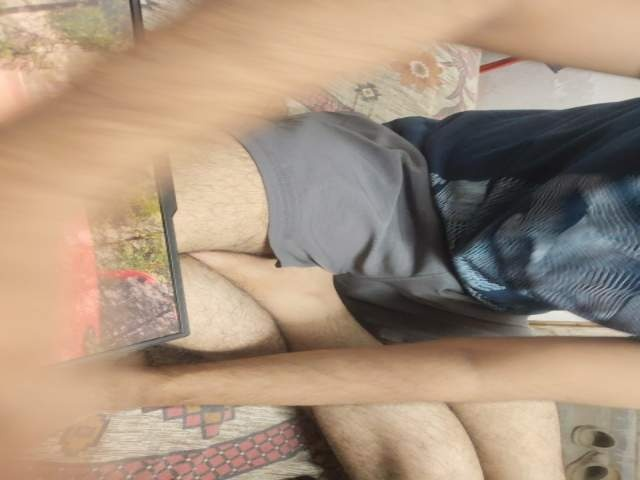pothole: (390, 311, 490, 391)
